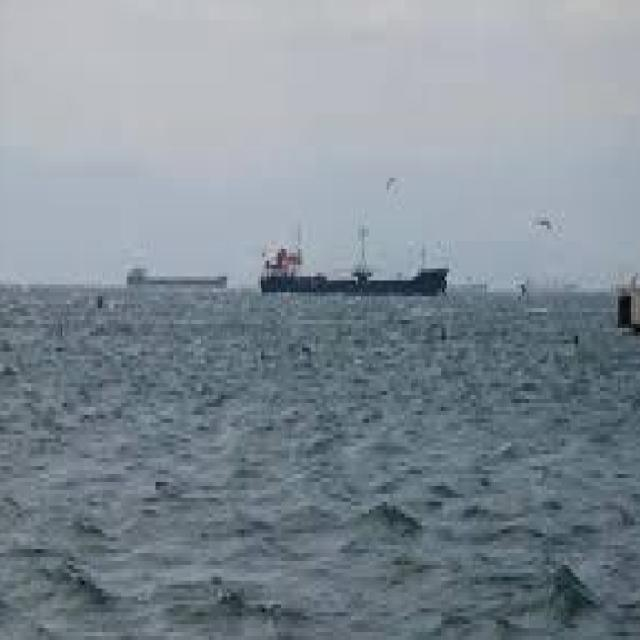cargoship: (257, 224, 445, 294), (124, 256, 225, 293)
